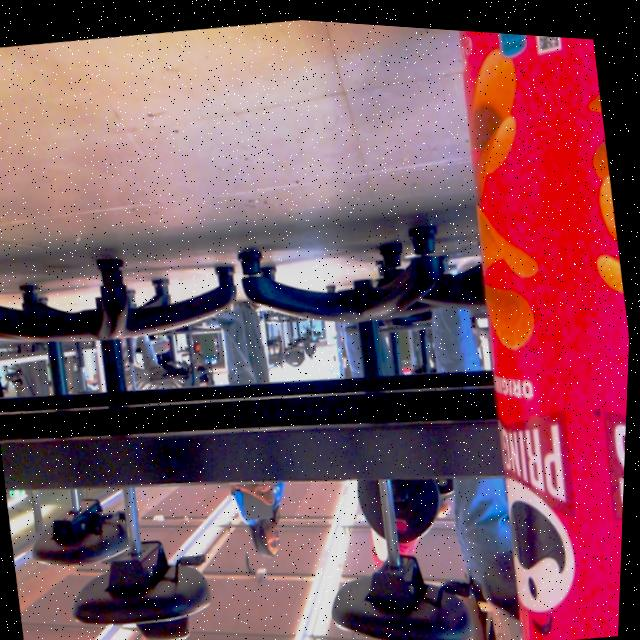redpringles: (367, 20, 640, 640)
